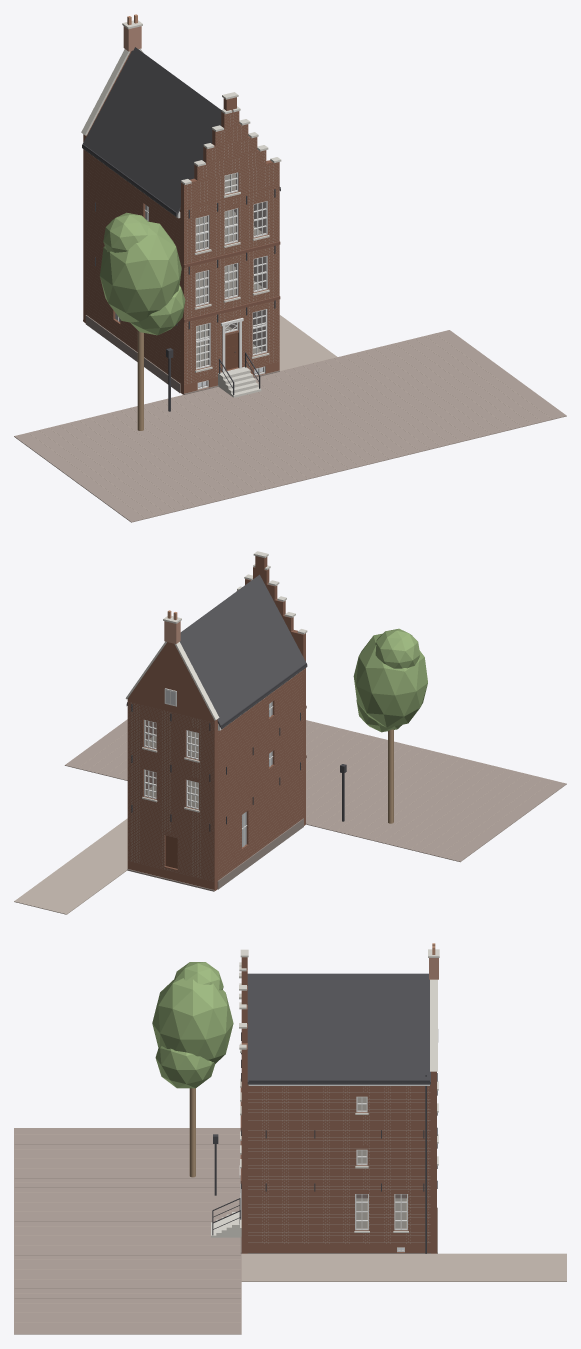
The model's file is clay-step-gable-canal-house-clay-v003.glb.
3 renders of one model, top to bottom at view 1: azimuth 30°, elevation 25°; view 2: azimuth 150°, elevation 25°; view 3: azimuth 270°, elevation 25°, orthographic. The views are drawn at different scales.
Parts seen in each view (by area): view 1: CLAY_SETTS, CLAY_WALL, CLAY_ROOF, CLAY_PLANTING, CLAY_JOINT, CLAY_TRIM, CLAY_GLASS, CLAY_STONE, CLAY_PAVING, CLAY_FLOOR, CLAY_HARDWARE, CLAY_FOUNDATION (+2 smaller); view 2: CLAY_WALL, CLAY_SETTS, CLAY_ROOF, CLAY_PLANTING, CLAY_PAVING, CLAY_JOINT, CLAY_TRIM, CLAY_STONE, CLAY_GLASS, CLAY_FOUNDATION, CLAY_HARDWARE, CLAY_TIMBER (+1 smaller); view 3: CLAY_SETTS, CLAY_WALL, CLAY_ROOF, CLAY_JOINT, CLAY_PAVING, CLAY_PLANTING, CLAY_STONE, CLAY_HARDWARE, CLAY_GLASS, CLAY_FLOOR, CLAY_TRIM, CLAY_TIMBER.
Part boxes in pixels (left/top/right/bottom): CLAY_SETTS: left=14, top=330, right=566, bottom=522; CLAY_WALL: left=83, top=51, right=279, bottom=394; CLAY_ROOF: left=82, top=47, right=280, bottom=216; CLAY_PLANTING: left=100, top=212, right=185, bottom=335; CLAY_JOINT: left=29, top=114, right=551, bottom=517; CLAY_TRIM: left=115, top=172, right=267, bottom=389; CLAY_GLASS: left=115, top=173, right=265, bottom=387; CLAY_STONE: left=81, top=20, right=281, bottom=397; CLAY_PAVING: left=279, top=315, right=337, bottom=370; CLAY_FLOOR: left=196, top=173, right=263, bottom=366; CLAY_HARDWARE: left=82, top=144, right=280, bottom=411; CLAY_FOUNDATION: left=83, top=315, right=279, bottom=394; CLAY_WALL: left=127, top=556, right=305, bottom=890; CLAY_SETTS: left=64, top=719, right=566, bottom=862; CLAY_ROOF: left=126, top=574, right=307, bottom=729; CLAY_PLANTING: left=353, top=628, right=427, bottom=732; CLAY_PAVING: left=14, top=818, right=127, bottom=914; CLAY_JOINT: left=78, top=702, right=552, bottom=877; CLAY_TRIM: left=144, top=688, right=273, bottom=846; CLAY_STONE: left=125, top=551, right=307, bottom=812; CLAY_GLASS: left=145, top=690, right=272, bottom=847; CLAY_FOUNDATION: left=127, top=818, right=306, bottom=891; CLAY_HARDWARE: left=127, top=663, right=346, bottom=831; CLAY_TIMBER: left=388, top=729, right=393, bottom=823; CLAY_SETTS: left=14, top=1128, right=241, bottom=1334; CLAY_WALL: left=241, top=957, right=436, bottom=1253; CLAY_ROOF: left=247, top=973, right=430, bottom=1084; CLAY_JOINT: left=15, top=1084, right=430, bottom=1322; CLAY_PAVING: left=241, top=1253, right=566, bottom=1281; CLAY_PLANTING: left=152, top=962, right=233, bottom=1088; CLAY_STONE: left=211, top=949, right=439, bottom=1237; CLAY_HARDWARE: left=212, top=1032, right=437, bottom=1253; CLAY_GLASS: left=356, top=1097, right=406, bottom=1250; CLAY_FLOOR: left=356, top=1097, right=406, bottom=1228; CLAY_TRIM: left=355, top=1029, right=438, bottom=1251; CLAY_TIMBER: left=189, top=1088, right=195, bottom=1177.
Bounding box in the file's own units: 30 × 19.42 × 34.
